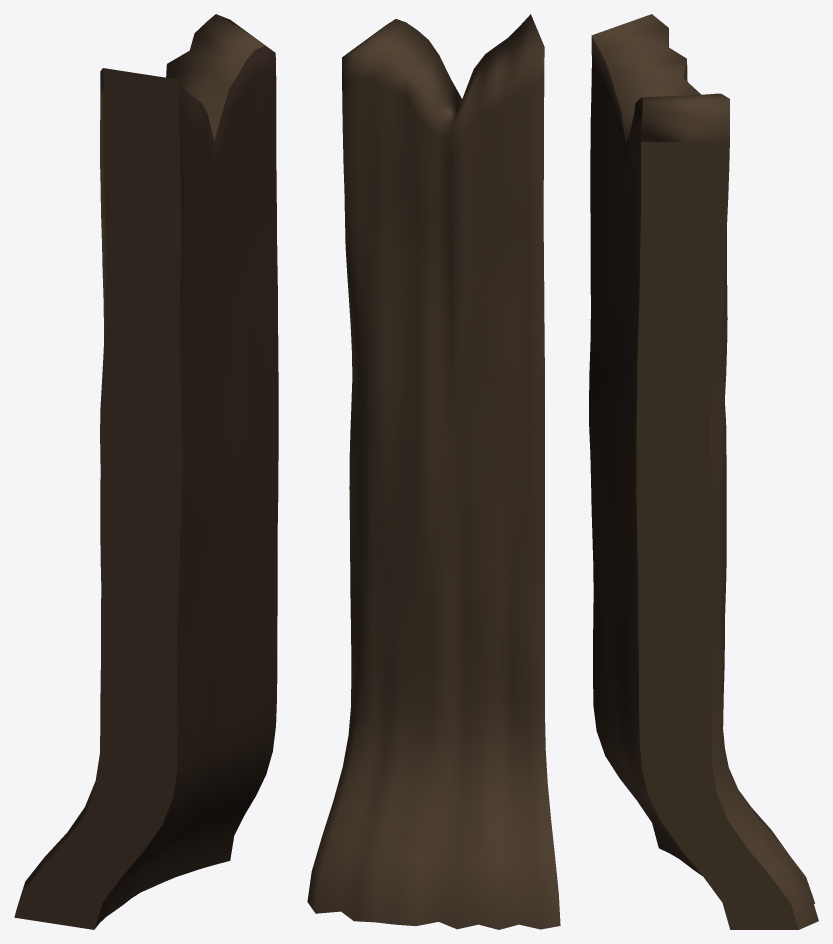
Rendered from trunk_back_r.glb.
The picture shows the model from 3 angles, left to right: view 1: azimuth 30°, elevation 25°; view 2: azimuth 150°, elevation 25°; view 3: azimuth 270°, elevation 25°; orthographic projection. The views are drawn at different scales.
Visible parts, largest first — view 1: Shell; view 2: Shell; view 3: Shell.
Part boxes in pixels (bbox=[...]): Shell: bbox=[14, 14, 278, 929]; Shell: bbox=[307, 14, 560, 929]; Shell: bbox=[589, 14, 818, 929].
Bounding box in the file's own units: 1.51 × 5.65 × 1.41.
